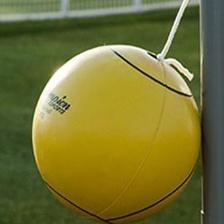Sports-Ball: (29, 41, 201, 221)
